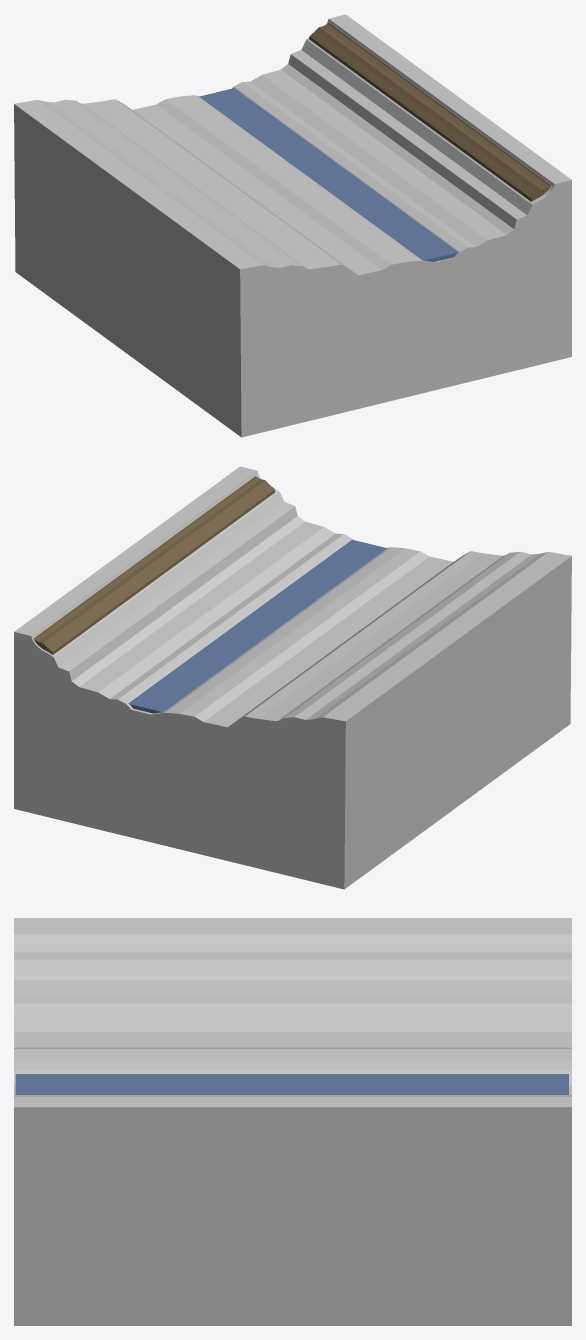
The model's file is 侵蚀阶地.gltf.
The picture shows the model from 3 angles, top to bottom: view 1: azimuth 30°, elevation 25°; view 2: azimuth 150°, elevation 25°; view 3: azimuth 270°, elevation 25°; orthographic projection. The views are drawn at different scales.
Visible parts, largest first — view 1: node_1_-9166, node__-9170, node__-9164; view 2: node_1_-9166, node__-9170, node__-9164; view 3: node_1_-9166, node__-9170.
Part boxes in pixels (box(x1,y1,x2,y2)): node_1_-9166: box(14, 14, 571, 437); node__-9170: box(199, 88, 457, 260); node__-9164: box(309, 22, 550, 201); node_1_-9166: box(14, 466, 571, 889); node__-9170: box(128, 539, 386, 712); node__-9164: box(33, 476, 275, 654); node_1_-9166: box(14, 918, 571, 1325); node__-9170: box(15, 1074, 568, 1094).
Bounding box in the file's own units: 7.52 × 3.83 × 8.88.
